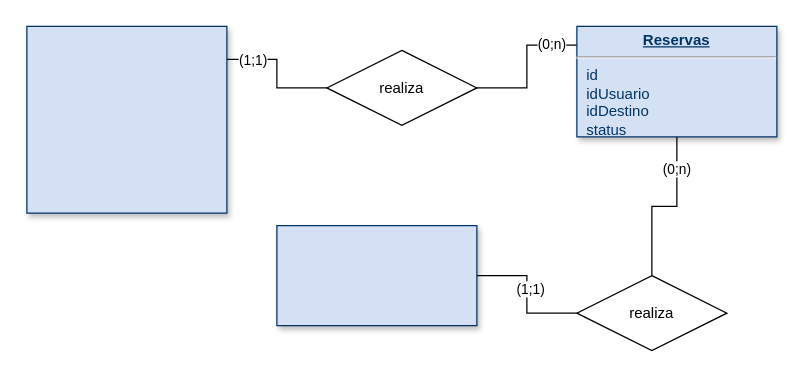
This 806x374 diagram has some shape labels left out. Each missing label, with the centre of its shape:
Destinos id nome descricao: (377,276)
Usuario id nome dataNascimento rua numero cidade estado pais: (127,121)
